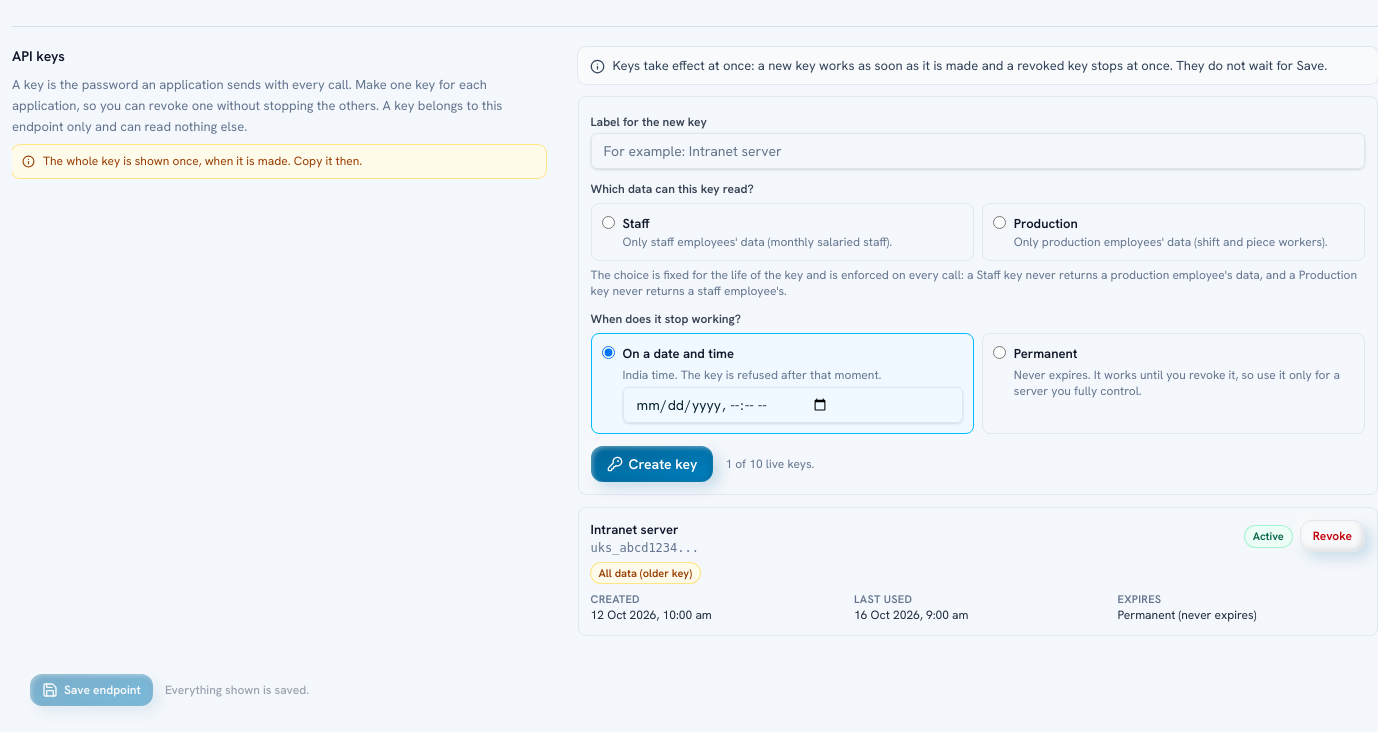
Access: API keys › keeps a revoked key's row without a Revoke button
(page scrolled)
What coordinates should you click on to do the following:
click the button with aria-label "Revoke Intranet server"
I would click on:
 (1332, 536)
Its box is x1=1300 y1=520 x2=1365 y2=552.
(page scrolled)
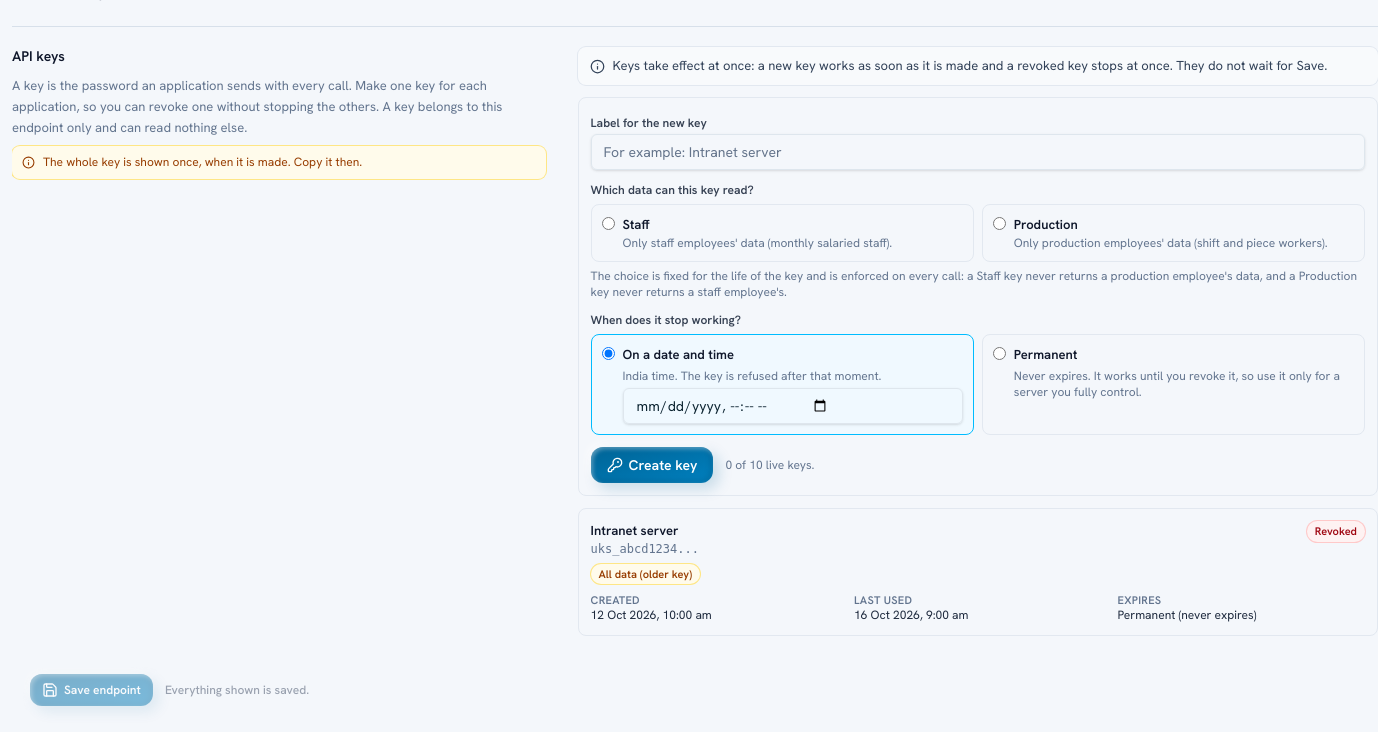
Check: the button with test id "key-revoke" is gone
